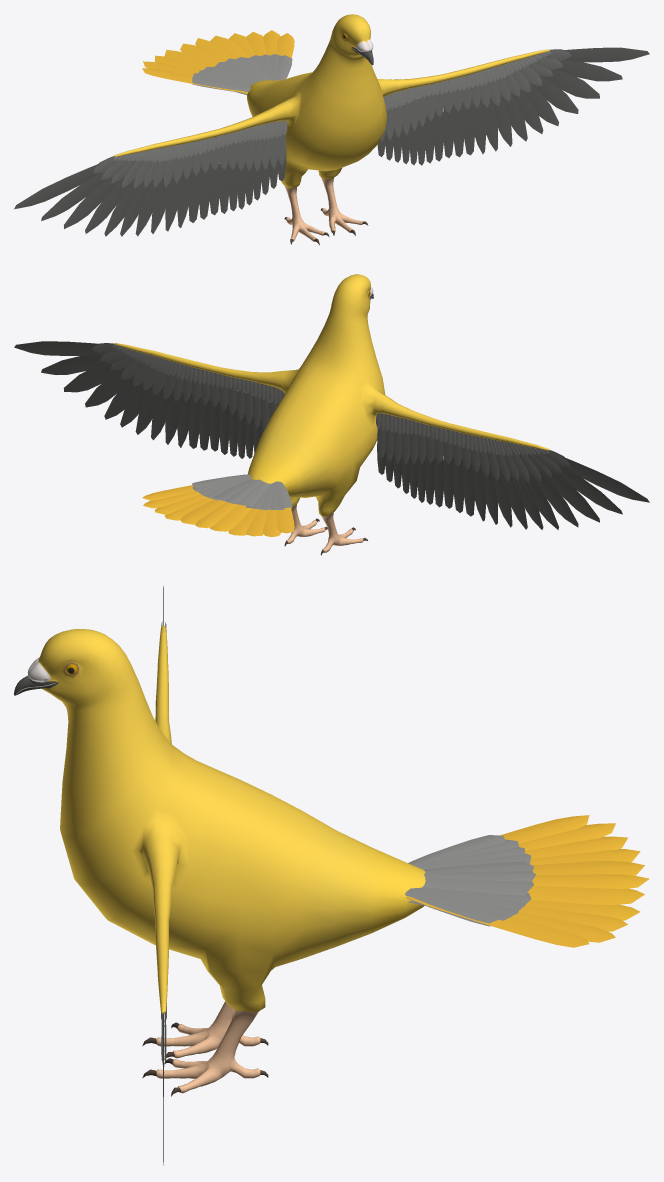
Rendered from pigeon.glb.
The picture shows the model from 3 angles, top to bottom: view 1: azimuth 30°, elevation 25°; view 2: azimuth 150°, elevation 25°; view 3: azimuth 270°, elevation 25°; orthographic projection. The views are drawn at different scales.
Parts seen in each view (by area): view 1: Pigeon_Body_Texture_100Animals_SG_0, Pigeon_WingFeathers_R_Texture_100Animals_SG_0, Pigeon_WingFeathers_L_Texture_100Animals_SG_0, Pigeon_TailFeathers_Texture_100Animals_SG_0; view 2: Pigeon_Body_Texture_100Animals_SG_0, Pigeon_WingFeathers_R_Texture_100Animals_SG_0, Pigeon_WingFeathers_L_Texture_100Animals_SG_0, Pigeon_TailFeathers_Texture_100Animals_SG_0; view 3: Pigeon_Body_Texture_100Animals_SG_0, Pigeon_TailFeathers_Texture_100Animals_SG_0.
Part boxes in pixels (x1,y1,x2,y2): Pigeon_Body_Texture_100Animals_SG_0: [114, 14, 549, 245]; Pigeon_WingFeathers_R_Texture_100Animals_SG_0: [14, 120, 287, 236]; Pigeon_WingFeathers_L_Texture_100Animals_SG_0: [377, 47, 649, 165]; Pigeon_TailFeathers_Texture_100Animals_SG_0: [142, 30, 294, 94]; Pigeon_Body_Texture_100Animals_SG_0: [114, 274, 549, 555]; Pigeon_WingFeathers_R_Texture_100Animals_SG_0: [376, 413, 649, 529]; Pigeon_WingFeathers_L_Texture_100Animals_SG_0: [14, 341, 284, 458]; Pigeon_TailFeathers_Texture_100Animals_SG_0: [142, 474, 294, 537]; Pigeon_Body_Texture_100Animals_SG_0: [14, 625, 425, 1096]; Pigeon_TailFeathers_Texture_100Animals_SG_0: [405, 815, 649, 947].
Size of what is drawn, in the model's own units: 8.46 by 3.01 by 4.03.
Materials: 1 (1 with a texture image).
